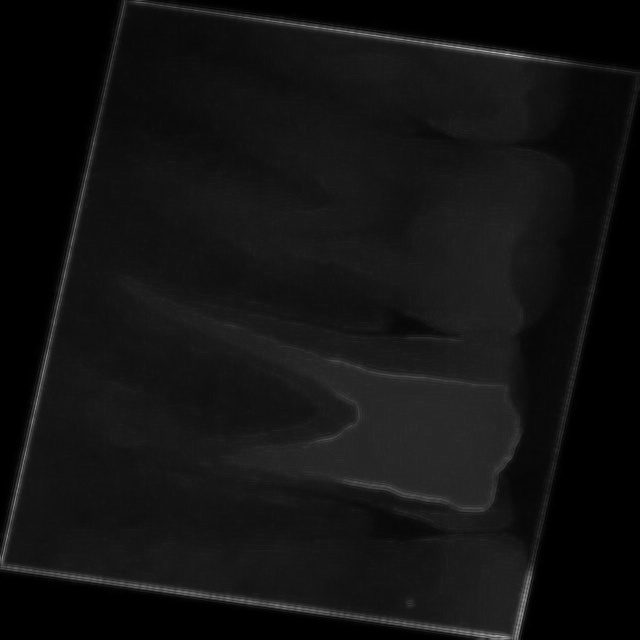Class 1- complete endodontic treatment: (27, 272, 541, 554)
